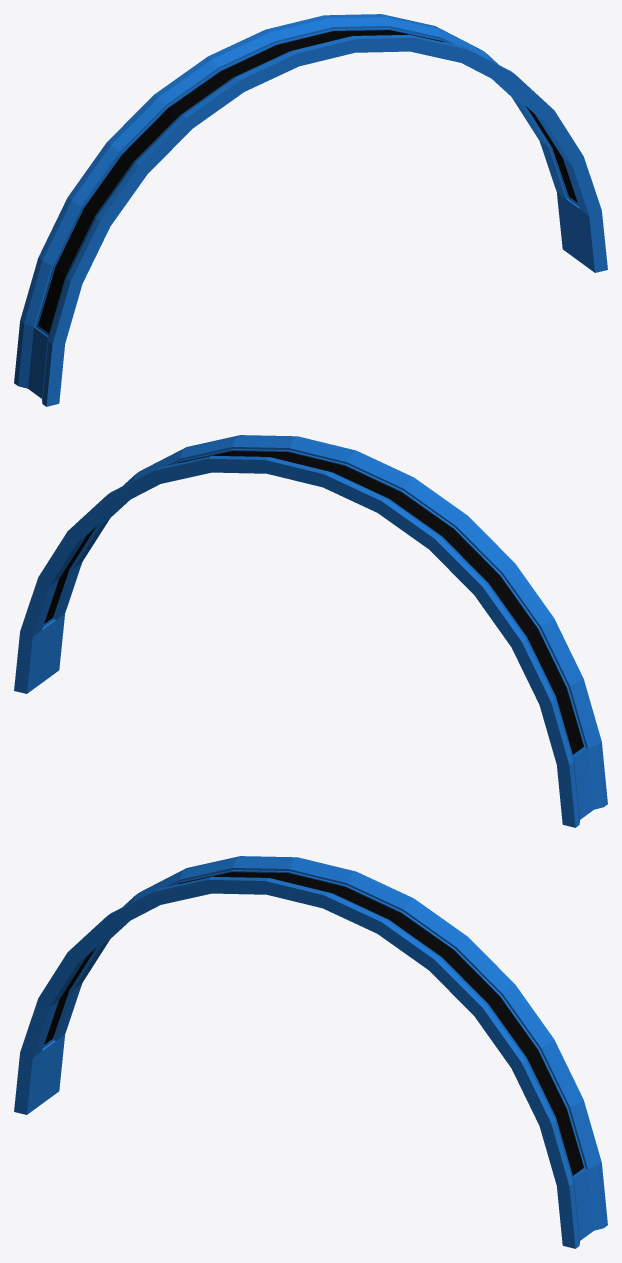
Rendered from space_hangar_fragment_1.fbx.
The picture shows the model from 3 angles, top to bottom: view 1: azimuth 30°, elevation 25°; view 2: azimuth 150°, elevation 25°; view 3: azimuth 330°, elevation 25°; orthographic projection.
Visible parts, largest first — view 1: Cloner_4; view 2: Cloner_4; view 3: Cloner_4.
Boxes of the visible parts, <box> form: Cloner_4: <box>14,14,607,406</box>; Cloner_4: <box>14,435,607,827</box>; Cloner_4: <box>14,856,607,1248</box>.
Size of the model in its own units: 2000 by 995 by 200.
